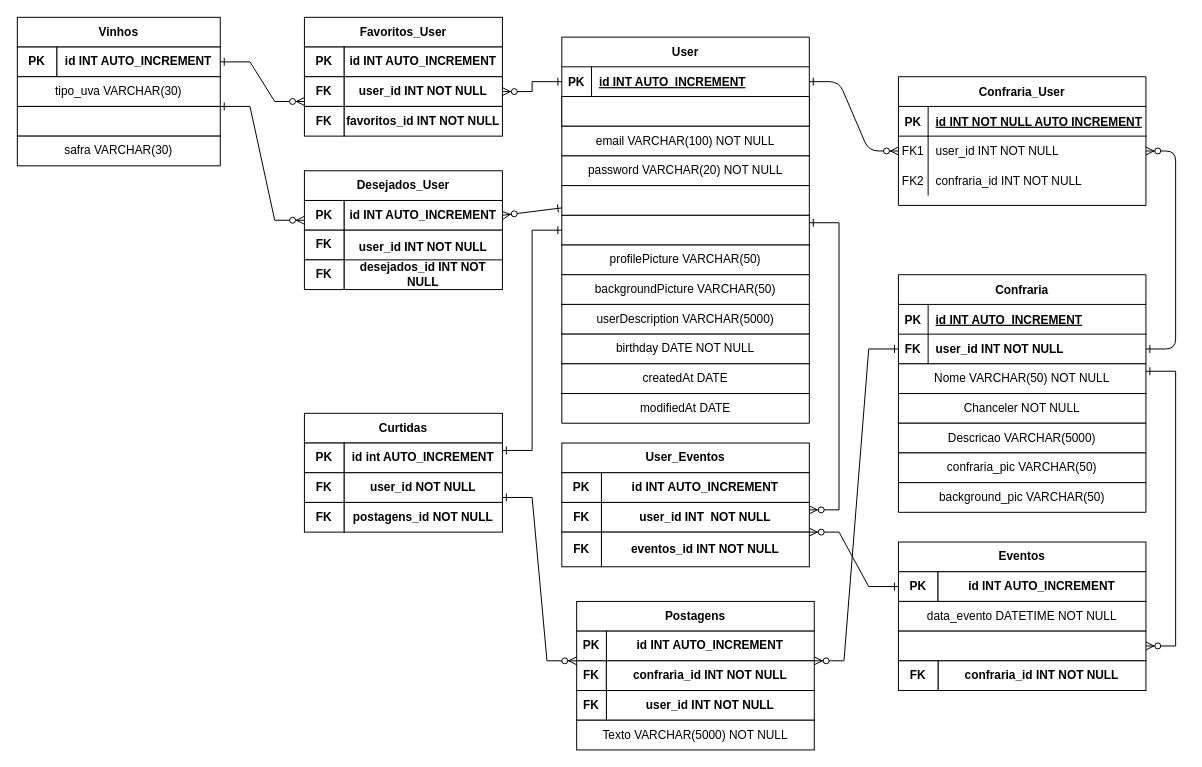
This 1202x767 diagram has some shape labels left out. The centre of each missing label's shape, as x and y in pixels:
local VARCHAR(50) NOT NULL: point 1021,645
name VARCHAR(50) NOT NULL: point 685,229
regiao VARCHAR(30): point 118,120
surname VARCHAR(50) NOT NULL: point 685,111
terms CHAR(2) NOT NULL: point 685,200
